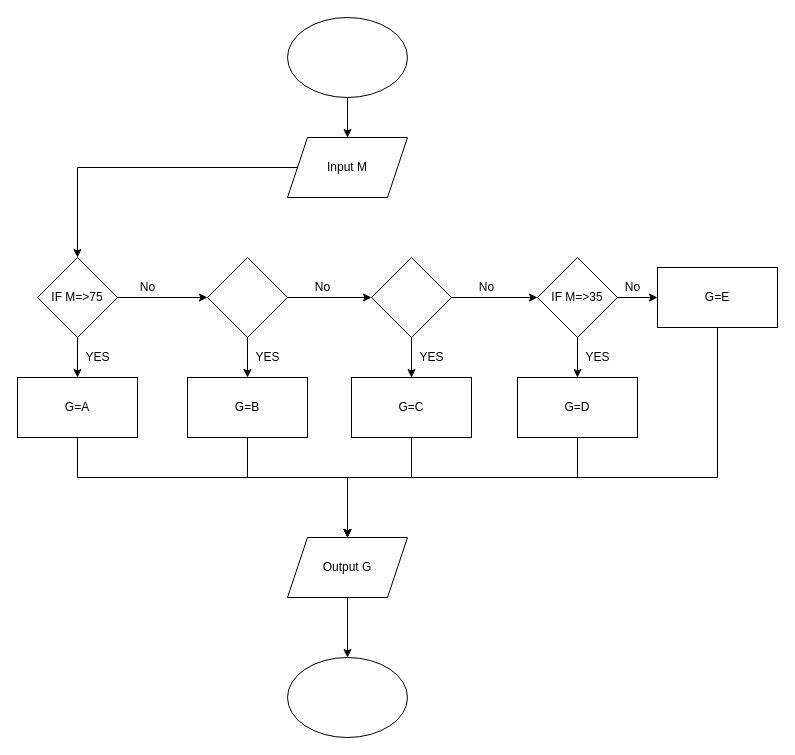
Some shapes in this 795 by 755 pixel diagram are drawn without their labels. Each missing label, with the box of its shape:
Begin: (286, 16, 408, 98)
END: (286, 656, 408, 738)
IF M=>45: (370, 256, 452, 338)
IF M=>60: (206, 256, 288, 338)
